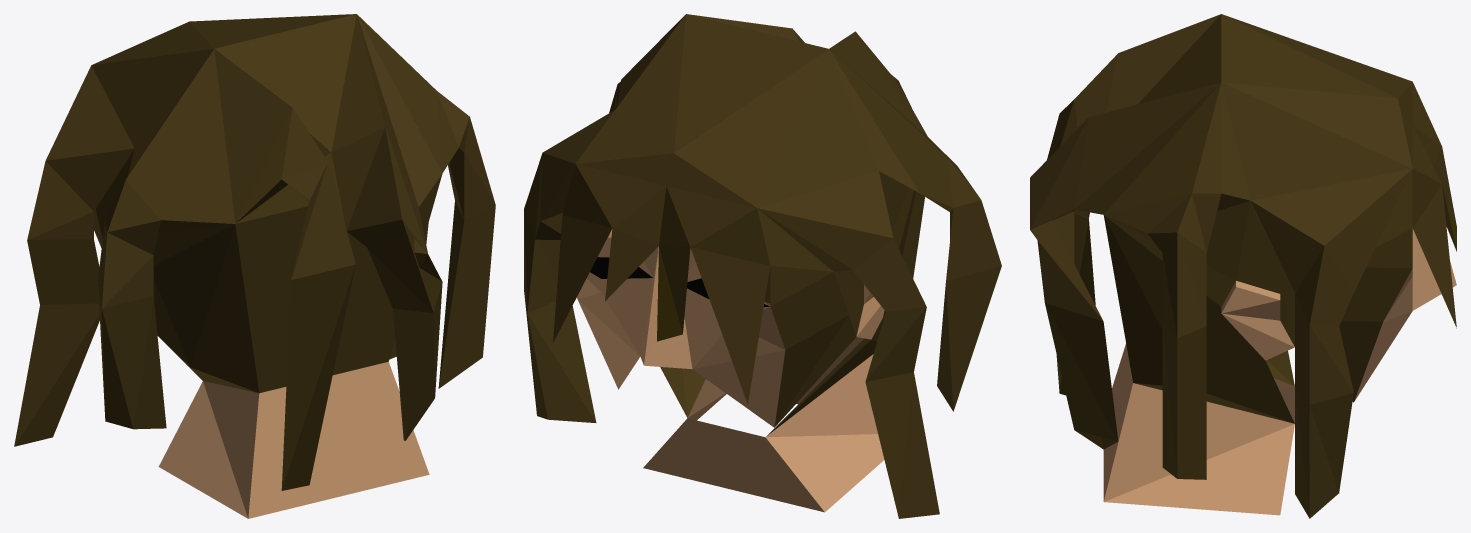
File: player_male_head_1_0.obj
3 views of the same model, side by side, from view 1: azimuth 30°, elevation 25°; view 2: azimuth 150°, elevation 25°; view 3: azimuth 270°, elevation 25° (orthographic).
Bounding box in the file's own units: 0.25 × 0.25 × 0.2266.
